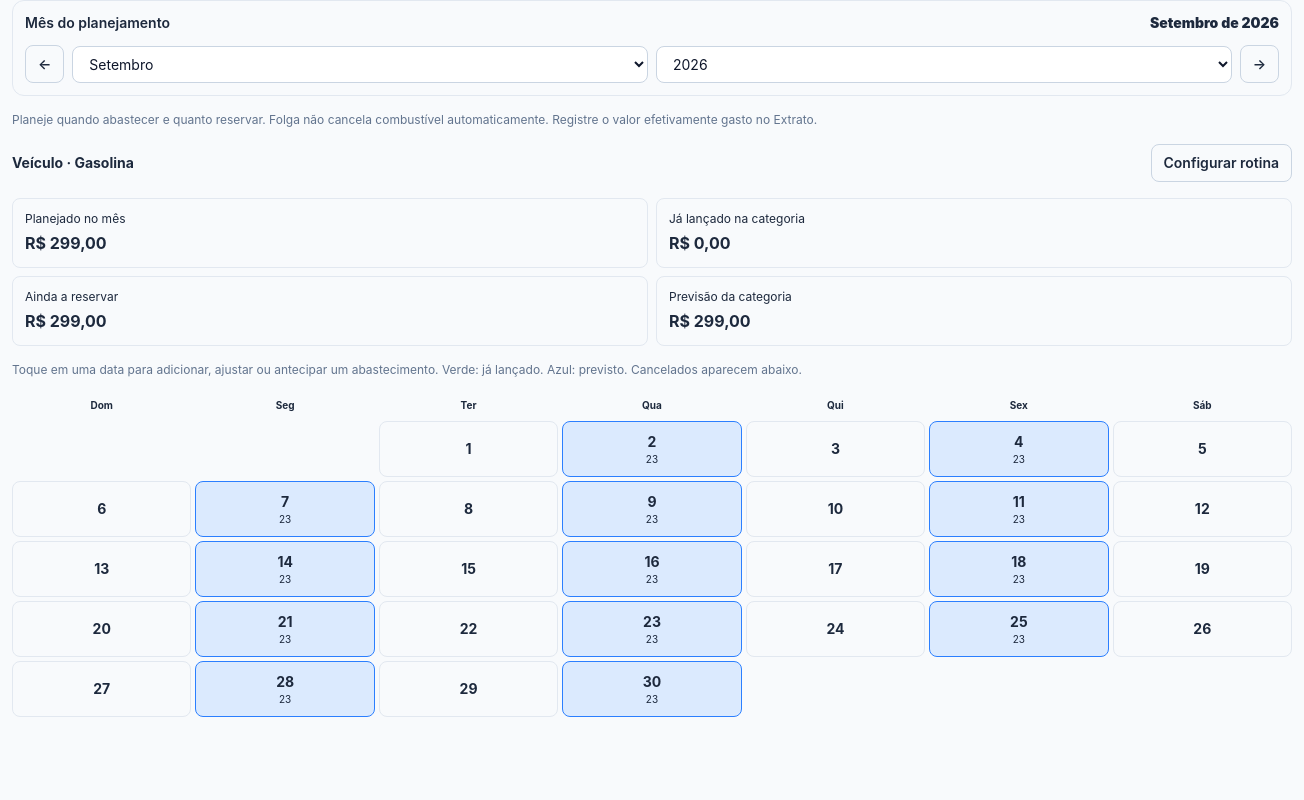
Test: salva dias, categoria, veículo e valor da rotina pela Garagem
The image size is (1304, 800).
Step 1. Click the button "Configurar rotina" → (1221, 163), box x1=1150 y1=144 x2=1292 y2=182
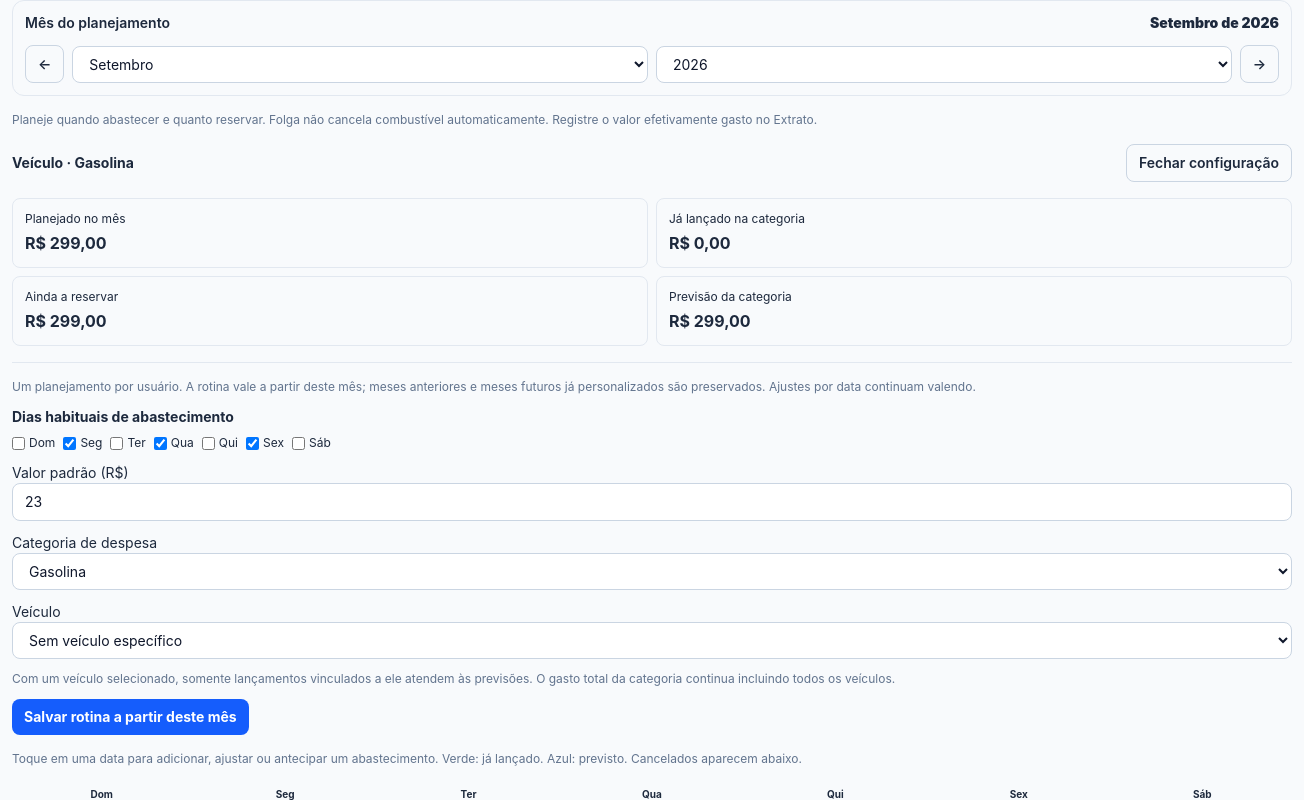
Step 2. Click the checkbox labelled "Sex" → (252, 443), box x1=246 y1=436 x2=259 y2=450
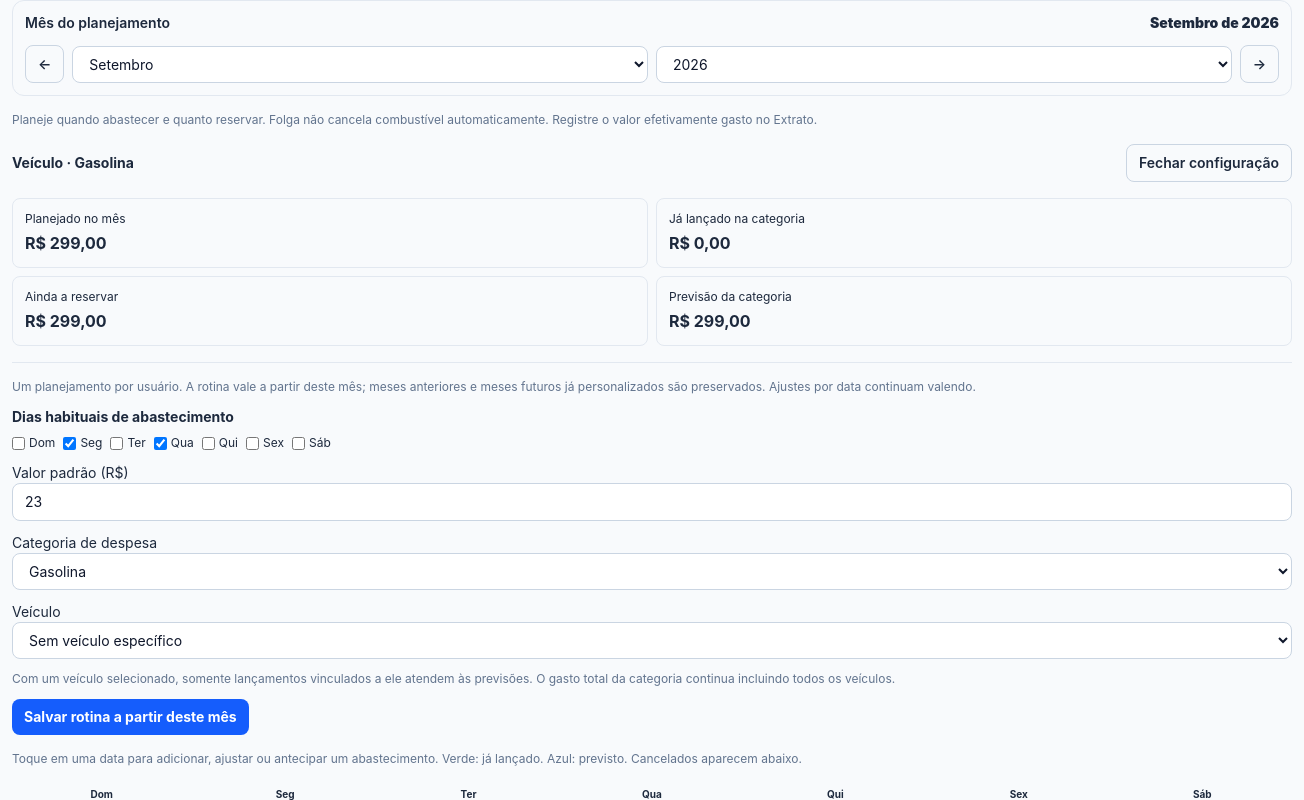
Step 3. Replace the text in the number field labelled "Valor padrão (R$)" with "25.50" → (652, 502), box x1=12 y1=483 x2=1292 y2=521
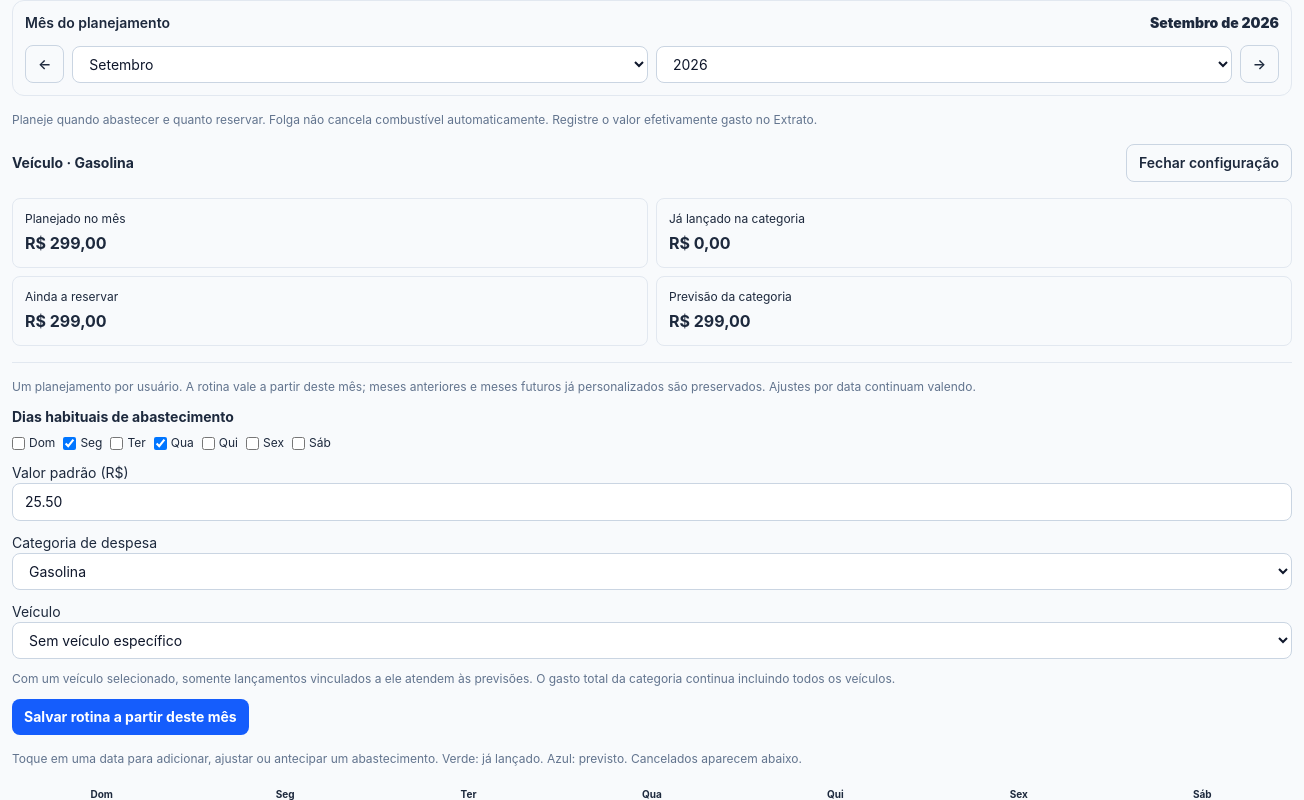
Step 4. Select "Veículo de teste" in the dropdown labelled "Veículo" → (652, 640), box x1=12 y1=622 x2=1292 y2=659
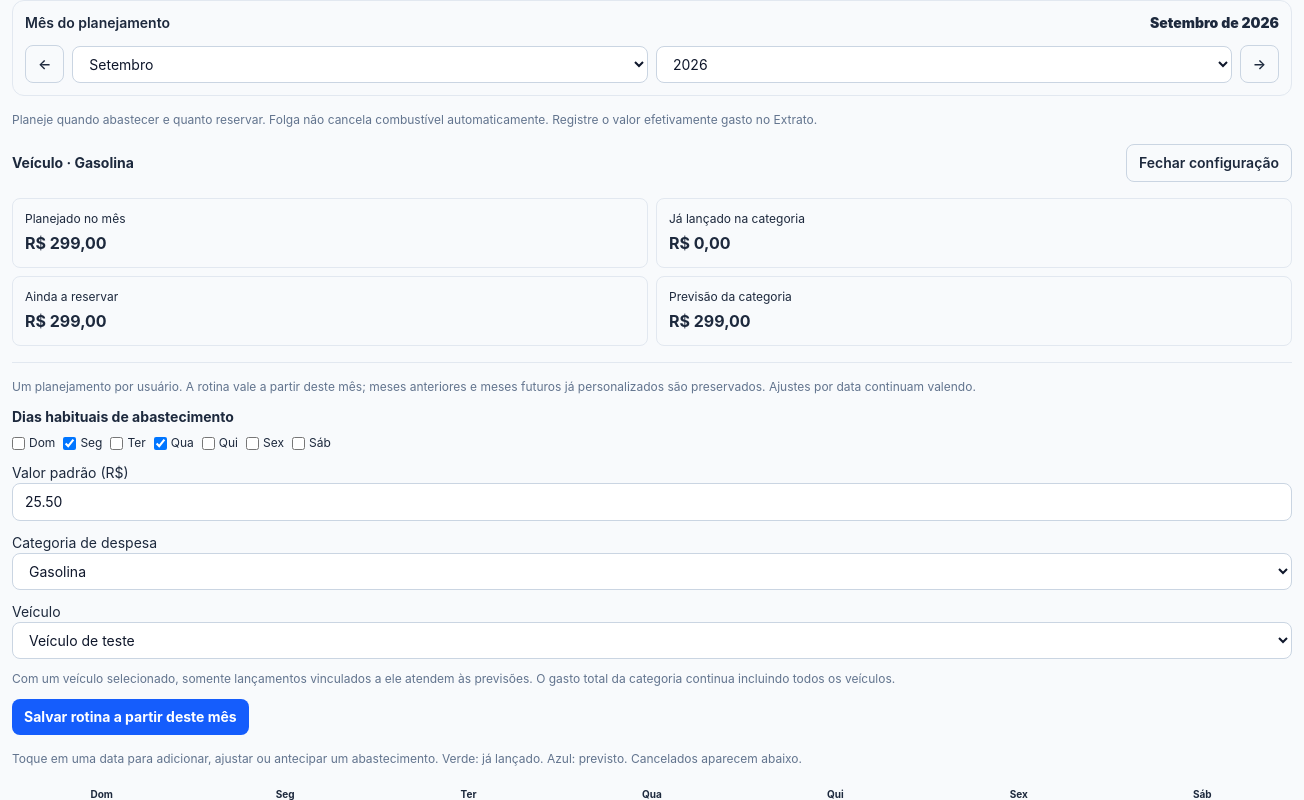
Step 5. Click the button "Salvar rotina a partir deste mês" → (130, 717), box x1=12 y1=699 x2=249 y2=735
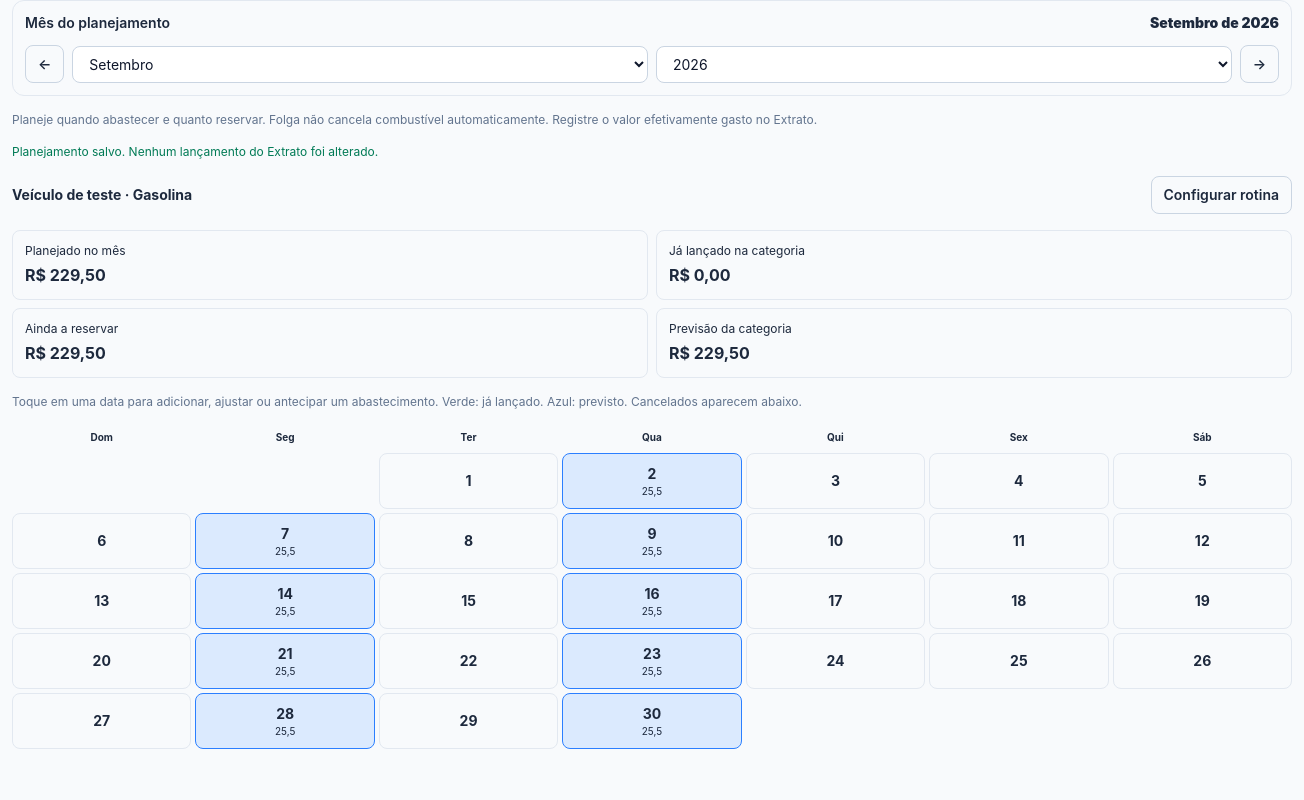
Expected: the text "Planejamento salvo. Nenhum lançamento do Extrato foi alterado." is shown, x1=12 y1=144 x2=378 y2=159
Expected: the text "Veículo de teste · Gasolina" is shown, x1=12 y1=185 x2=192 y2=205
